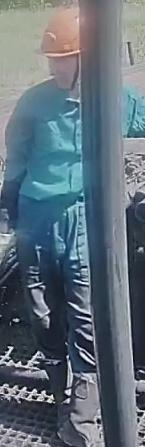gloves: (0, 223, 15, 270)
helmet: (33, 8, 81, 60)
vest: (0, 77, 93, 217)
